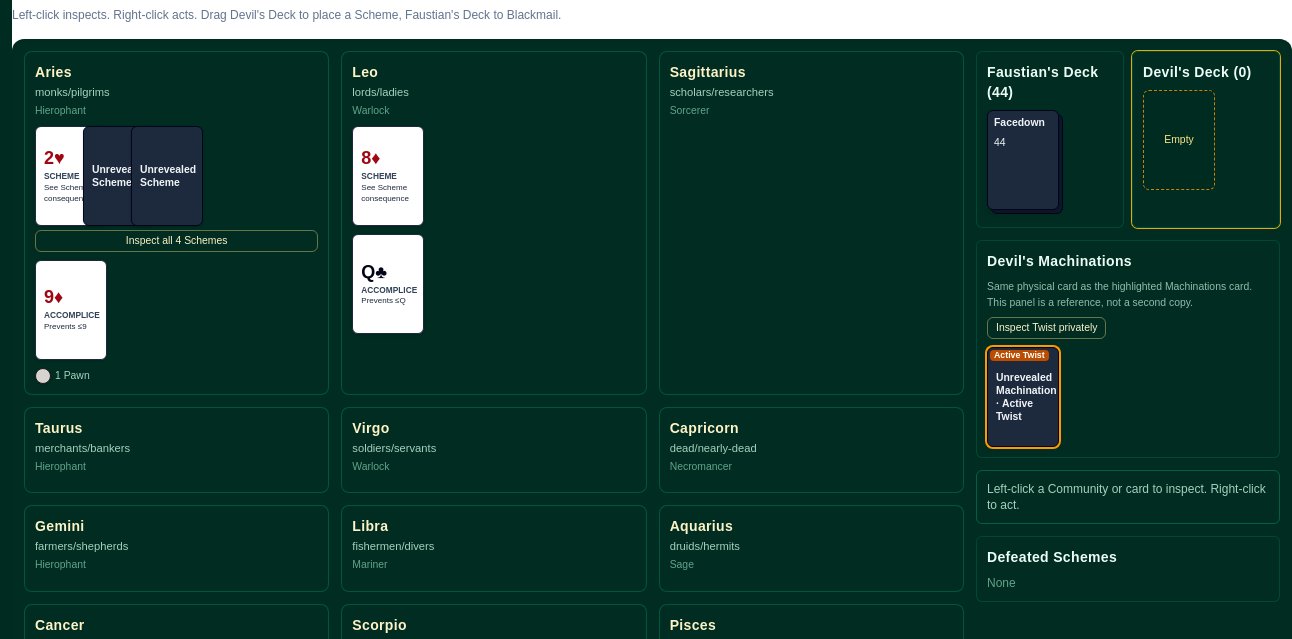
Test: Faustian surface presentation › opens a full inspector for crowded Community overflow
(page scrolled)
Click the button "Inspect all 4 Schemes": coordinates (177, 241) 35,230 -> 318,252
(page scrolled)
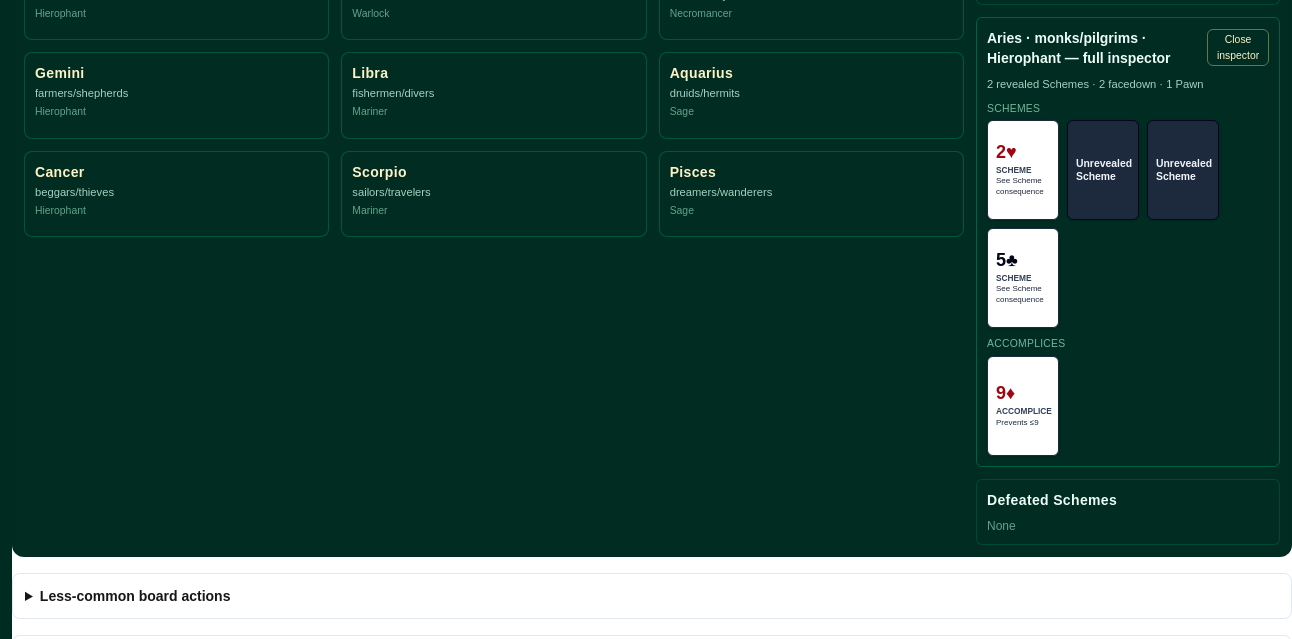
Expected: the element named "Aries inspector" is shown, 976,17 -> 1280,467
Expected: the text "full inspector" is shown, 1061,50 -> 1171,66
